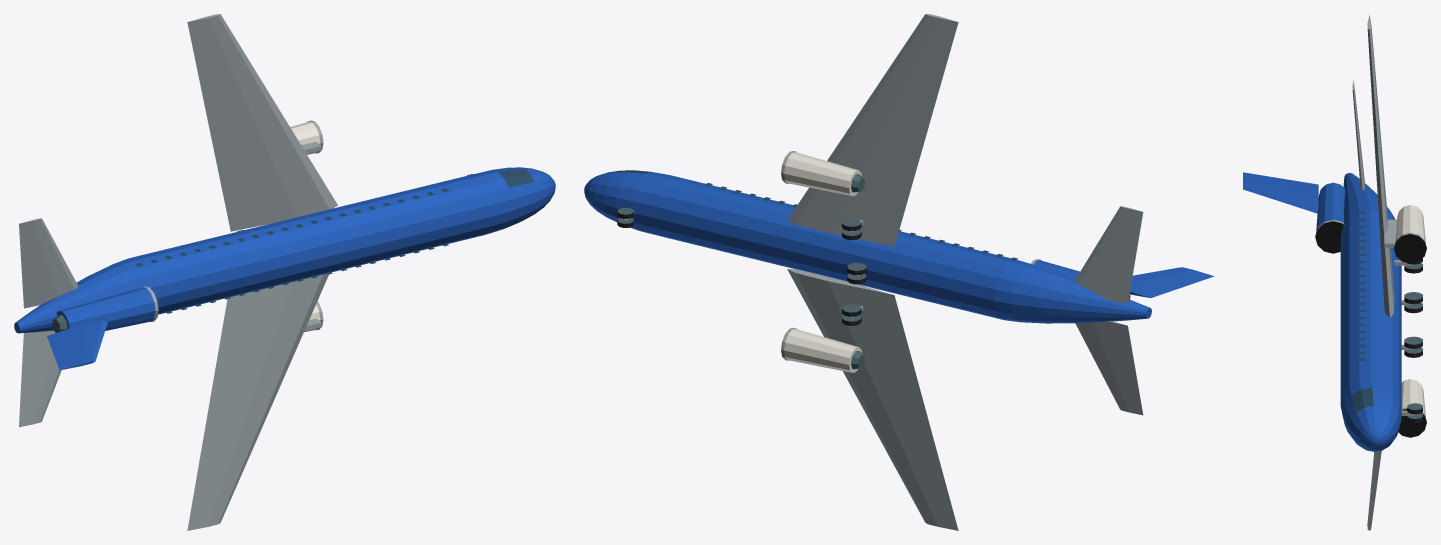
3 renders of one model, left to right at view 1: azimuth 30°, elevation 25°; view 2: azimuth 150°, elevation 25°; view 3: azimuth 270°, elevation 25°, orthographic.
Parts seen in each view (by area): view 1: default_fuselage, default_wing1, default_wing-1, default_tailplane1, default_tailplane-1, default_centre_engine, default_fin1; view 2: default_fuselage, default_wing1, default_wing-1, default_tailplane1, default_tailplane-1, default_engine3.31, default_engine3.3-1, default_fin1; view 3: default_fuselage, default_wing1, default_fin1, default_centre_engine, default_engine3.31, default_engine3.3-1, default_engine3.31_lip, default_windows1, default_centre_engine_lip, default_wing-1, default_tailplane1, default_engine3.31_pylon.
Part boxes in pixels (bbox=[...]): default_fuselage: bbox=[14, 167, 555, 333]; default_wing1: bbox=[187, 14, 337, 231]; default_wing-1: bbox=[187, 274, 328, 530]; default_tailplane1: bbox=[19, 218, 78, 308]; default_tailplane-1: bbox=[19, 330, 61, 427]; default_centre_engine: bbox=[56, 287, 155, 330]; default_fin1: bbox=[47, 320, 107, 370]; default_fuselage: bbox=[584, 170, 1151, 323]; default_wing1: bbox=[787, 14, 958, 246]; default_wing-1: bbox=[787, 269, 958, 530]; default_tailplane1: bbox=[1074, 206, 1143, 304]; default_tailplane-1: bbox=[1075, 321, 1143, 415]; default_engine3.31: bbox=[784, 152, 861, 196]; default_engine3.3-1: bbox=[784, 328, 861, 372]; default_fin1: bbox=[1129, 267, 1214, 297]; default_fuselage: bbox=[1340, 173, 1401, 451]; default_wing1: bbox=[1367, 14, 1394, 317]; default_fin1: bbox=[1243, 172, 1318, 213]; default_centre_engine: bbox=[1316, 182, 1344, 252]; default_engine3.31: bbox=[1395, 205, 1426, 263]; default_engine3.3-1: bbox=[1398, 379, 1426, 437]; default_engine3.31_lip: bbox=[1394, 232, 1426, 263]; default_windows1: bbox=[1358, 211, 1365, 360]; default_centre_engine_lip: bbox=[1315, 219, 1344, 253]; default_wing-1: bbox=[1367, 450, 1381, 530]; default_tailplane1: bbox=[1352, 80, 1365, 190]; default_engine3.31_pylon: bbox=[1384, 219, 1397, 247].
Bounding box in the file's own units: 21.95 × 19 × 6.32.
